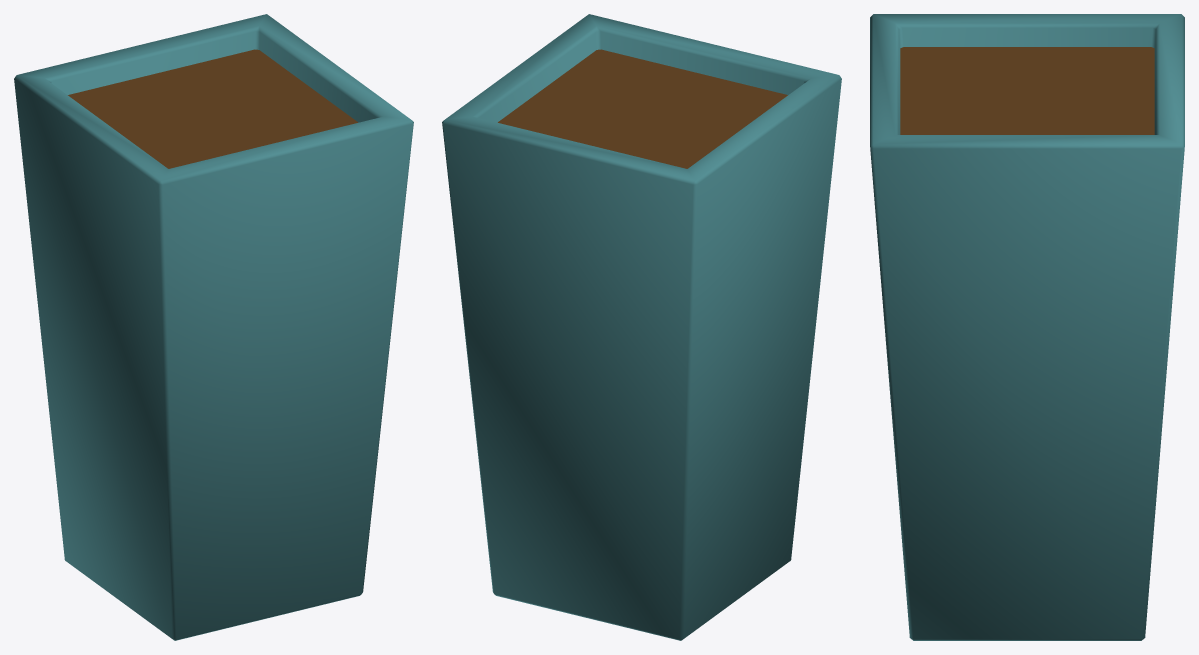
Rendered from BigPlantPot.fbx.
3 views of the same model, side by side, from view 1: azimuth 30°, elevation 25°; view 2: azimuth 150°, elevation 25°; view 3: azimuth 270°, elevation 25° (orthographic). The views are drawn at different scales.
Visible parts, largest first — view 1: PlantPot, PlantPot_dirt; view 2: PlantPot, PlantPot_dirt; view 3: PlantPot, PlantPot_dirt.
Part boxes in pixels (box(x1,y1,x2,y2)): PlantPot: box(14, 14, 413, 640); PlantPot_dirt: box(68, 49, 357, 168); PlantPot: box(442, 14, 841, 640); PlantPot_dirt: box(498, 49, 787, 168); PlantPot: box(870, 14, 1184, 640); PlantPot_dirt: box(900, 47, 1154, 134).
Bounding box in the file's own units: 52.42 × 94.43 × 52.42.
